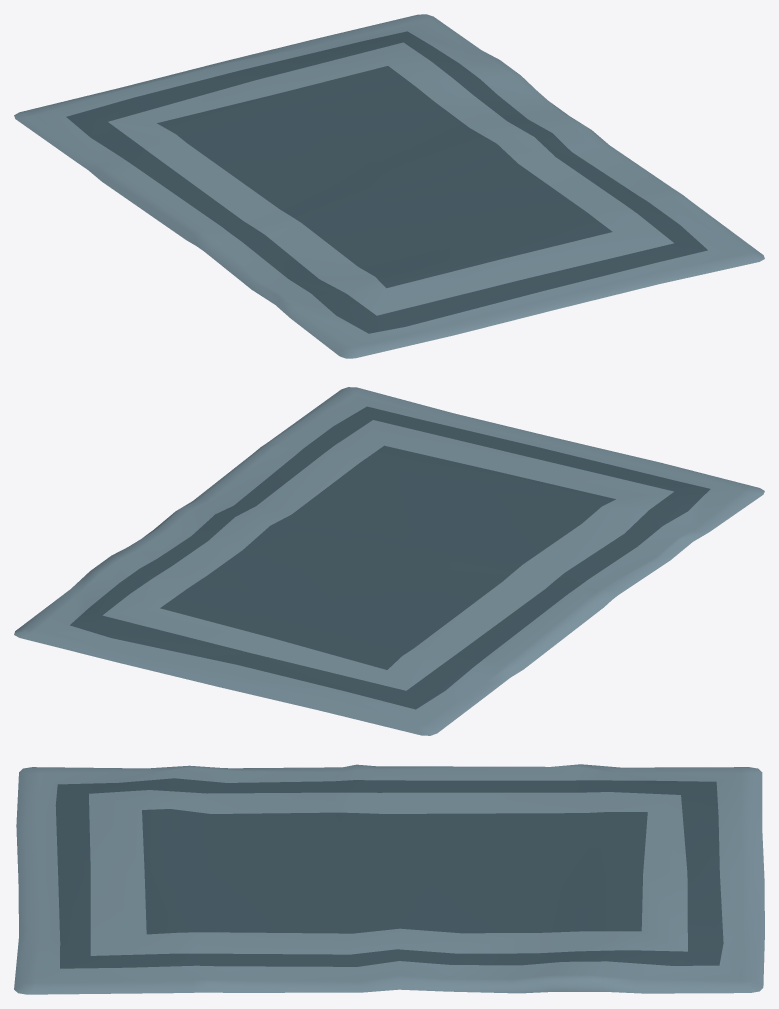
The model's file is carpet_003.fbx.
The picture shows the model from 3 angles, top to bottom: view 1: azimuth 30°, elevation 25°; view 2: azimuth 150°, elevation 25°; view 3: azimuth 270°, elevation 25°; orthographic projection. The views are drawn at different scales.
Parts seen in each view (by area): view 1: carpet_003; view 2: carpet_003; view 3: carpet_003.
Boxes of the visible parts, left/top/right/bottom form: carpet_003: left=14, top=14, right=764, bottom=358; carpet_003: left=14, top=387, right=764, bottom=735; carpet_003: left=14, top=764, right=764, bottom=994.
Size of the model in its own units: 484 by 675 by 13.46.
